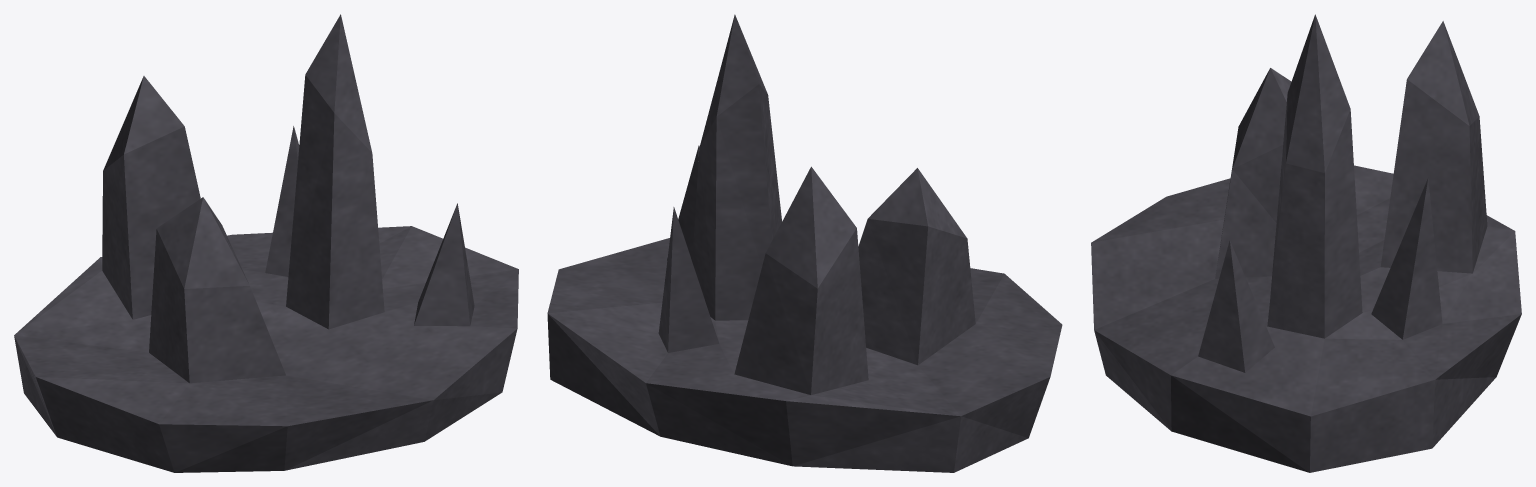
The model's file is volcanic_aa_clinker.glb.
3 views of the same model, side by side, from view 1: azimuth 30°, elevation 25°; view 2: azimuth 150°, elevation 25°; view 3: azimuth 270°, elevation 25° (orthographic). The views are drawn at different scales.
Parts seen in each view (by area): view 1: volcanic_aa_clinker; view 2: volcanic_aa_clinker; view 3: volcanic_aa_clinker.
Boxes of the visible parts, left/top/right/bottom form: volcanic_aa_clinker: left=14, top=14, right=518, bottom=472; volcanic_aa_clinker: left=547, top=14, right=1062, bottom=472; volcanic_aa_clinker: left=1091, top=14, right=1521, bottom=472.
Bounding box in the file's own units: 1.53 × 1.06 × 1.12.
1 material, 1 textured.
